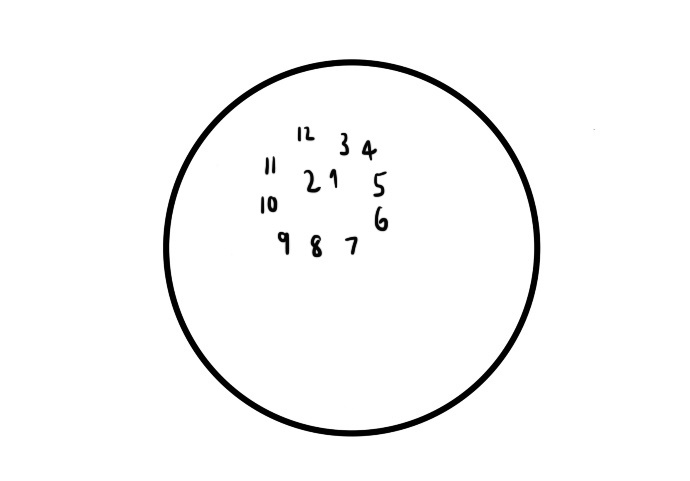eight: (308, 232, 325, 259)
eleven: (263, 154, 277, 175)
five: (369, 170, 389, 200)
four: (362, 136, 378, 162)
nine: (275, 227, 292, 257)
one: (327, 167, 341, 188)
seven: (344, 234, 359, 256)
six: (372, 203, 390, 233)
ten: (257, 191, 278, 217)
three: (335, 126, 351, 160)
twelve: (293, 123, 315, 144)
two: (300, 166, 322, 194)
